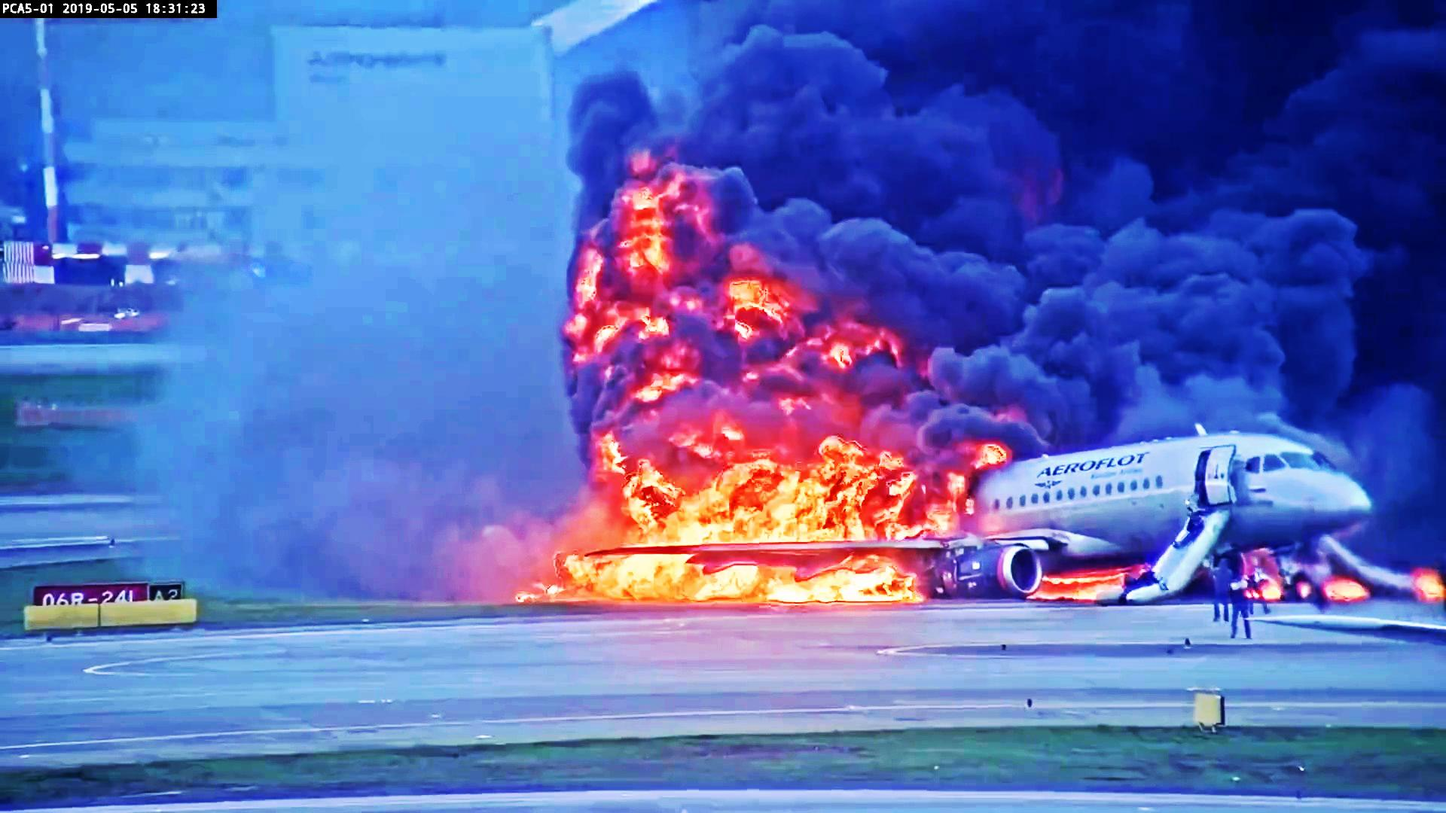fire: (631, 445, 953, 527), (584, 550, 924, 612)
smoke: (693, 36, 1061, 341), (993, 185, 1364, 428)
